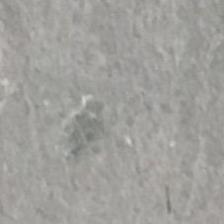Non_Crack: (7, 17, 223, 224)
